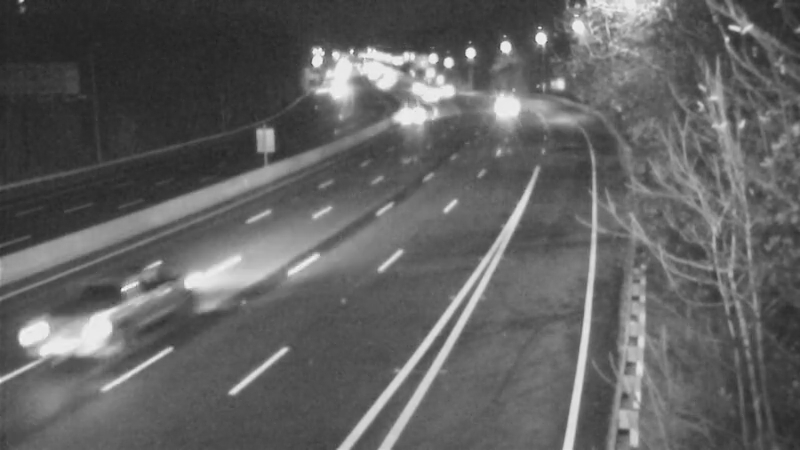vehicle: (8, 281, 118, 391), (385, 61, 435, 111), (418, 67, 468, 117), (400, 71, 450, 121), (479, 83, 529, 133), (378, 90, 428, 140)
